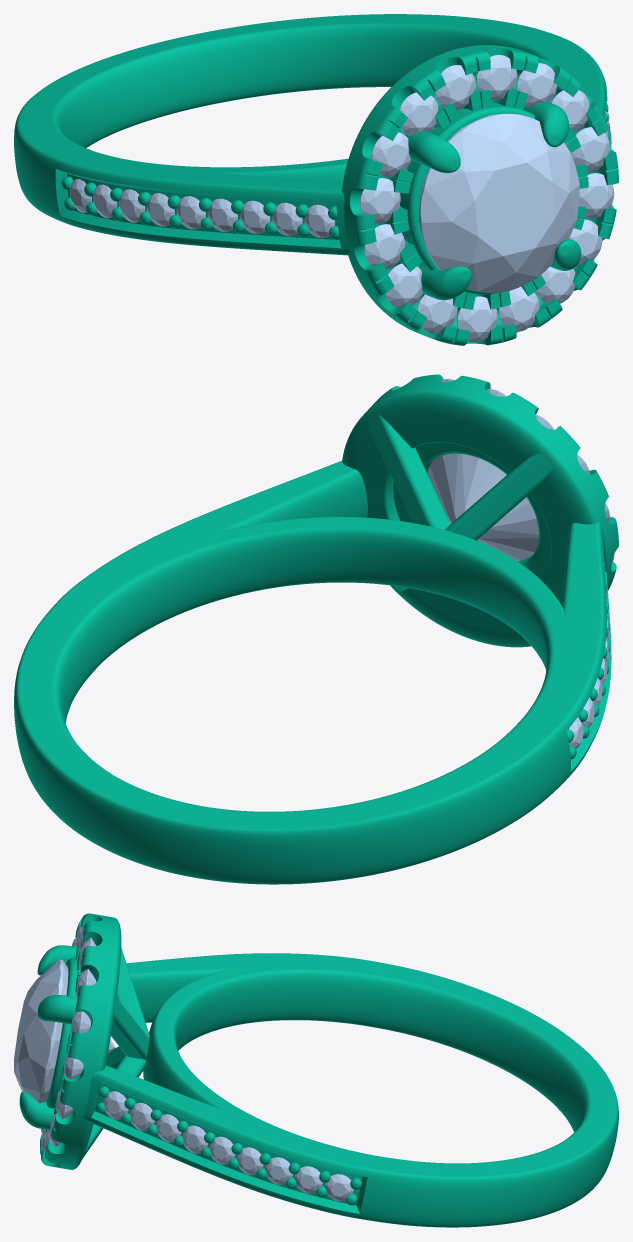
3 views of the same model, one above another, from view 1: azimuth 30°, elevation 25°; view 2: azimuth 150°, elevation 25°; view 3: azimuth 270°, elevation 25° (orthographic). The views are drawn at different scales.
Parts seen in each view (by area): view 1: JTC 8440(base).3dm, Diamond_Round (×17), Gem On Curve Advanced Gem (×9); view 2: JTC 8440(base).3dm, Diamond_Round; view 3: JTC 8440(base).3dm, Gem On Curve Advanced Gem (×9), Diamond_Round.
Boxes of the visible parts, x1,y1,x2,y2 form: JTC 8440(base).3dm: (14,14,618,345); Diamond_Round (×17): (360,54,614,341); Gem On Curve Advanced Gem (×9): (70,179,334,238); JTC 8440(base).3dm: (14,374,618,884); Diamond_Round: (427,453,538,561); JTC 8440(base).3dm: (19,913,618,1227); Gem On Curve Advanced Gem (×9): (103,1091,353,1201); Diamond_Round: (14,959,115,1103).
Bounding box in the file's own units: 2.43 × 1.24 × 2.92.
